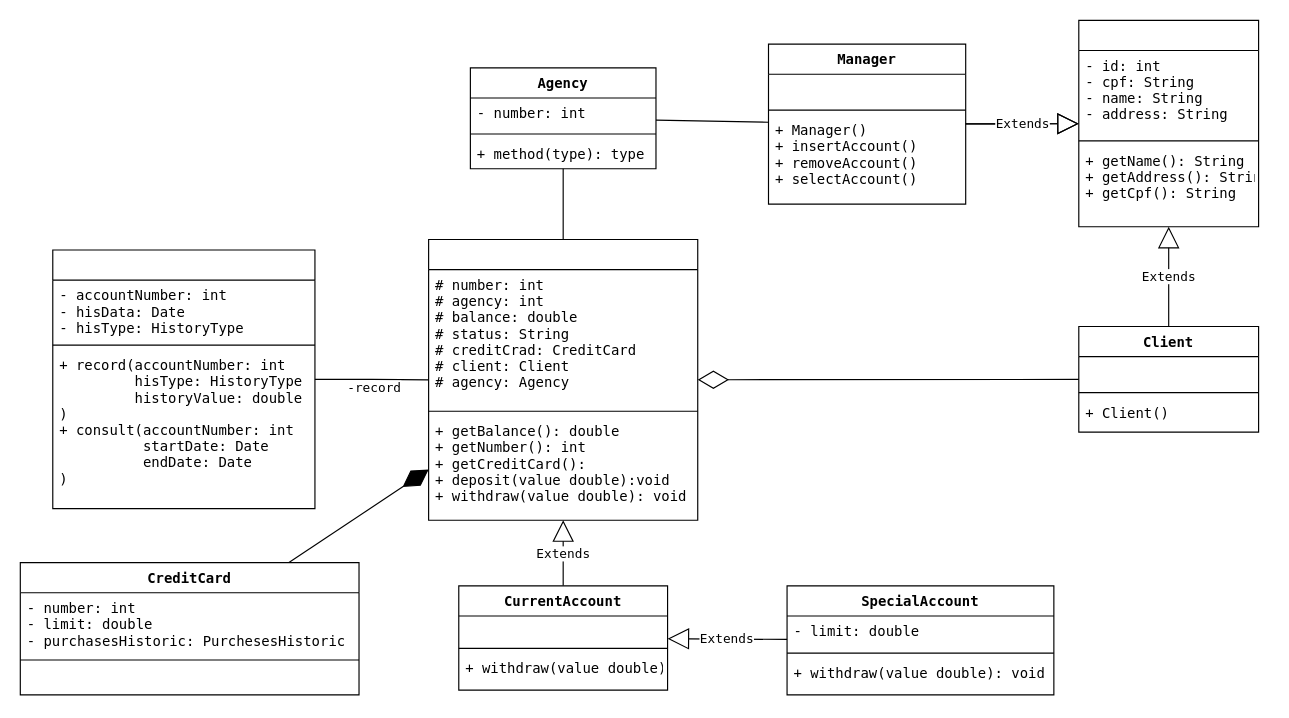
The diagram is 1289 pixels wide and 718 high, and some of its shapes have lost their labels. The box of each missing label's shape, as (x1, y1, x2, y2) in pixels:
Account: (427, 238, 698, 520)
Historic: (52, 249, 315, 509)
Person: (1078, 19, 1259, 227)
